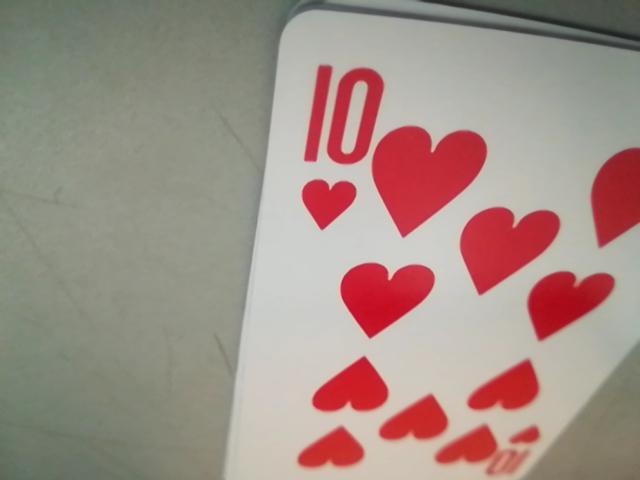hx 10: (301, 64, 384, 231)
